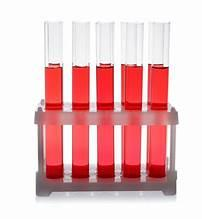Test tube: (44, 18, 67, 188), (94, 19, 115, 181), (149, 18, 170, 180), (120, 18, 140, 179), (72, 20, 88, 186)
